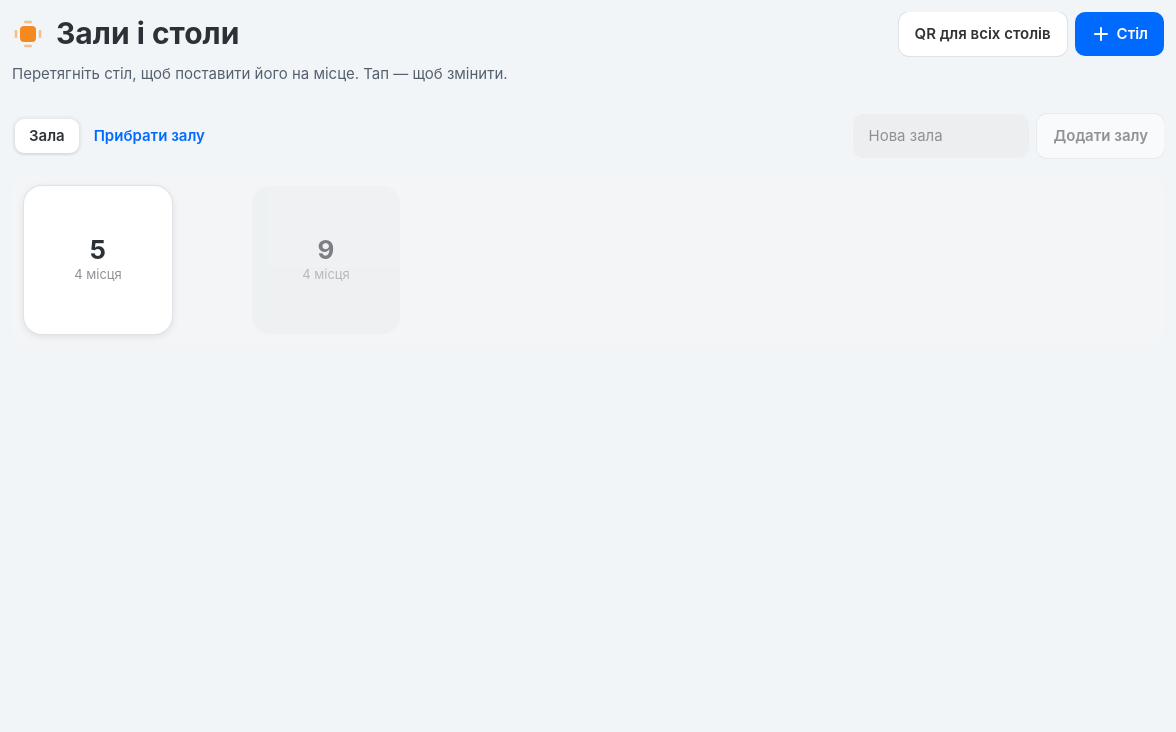
HallEditorPage › the QR of a table (guest menu, Q2) › offers no QR for a table that is not on the plan, nor for one not yet saved
Click the button "9 4 місця" at (326, 260), box top-left (252, 186), bottom-right (400, 334)
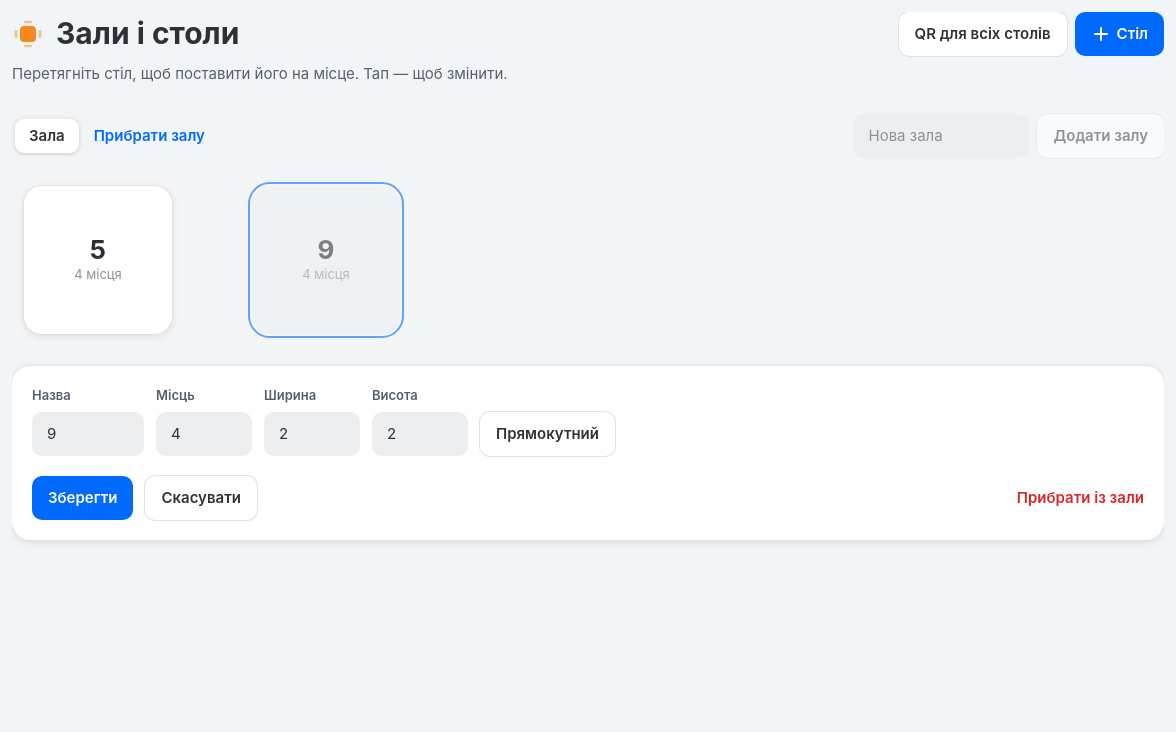
Click the button with test id "editor-table-add" at (1119, 34), box top-left (1075, 12), bottom-right (1164, 56)
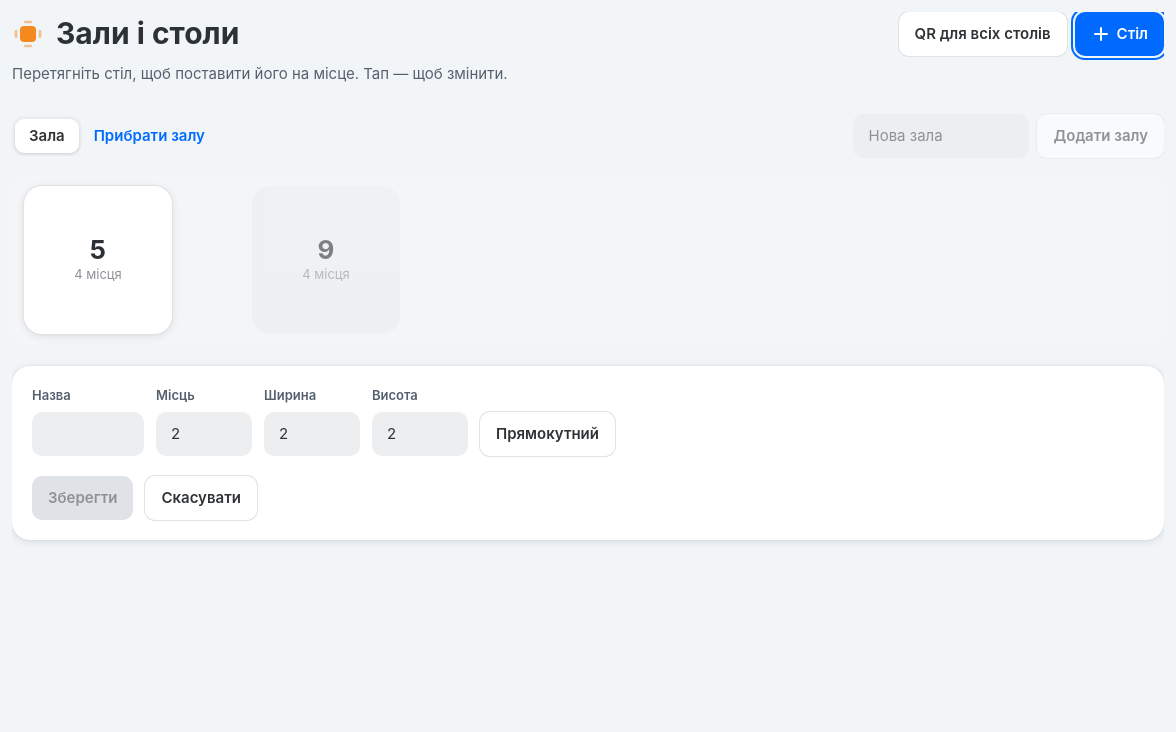
Click the button with test id "editor-table-11" at (98, 260), box top-left (24, 186), bottom-right (172, 334)
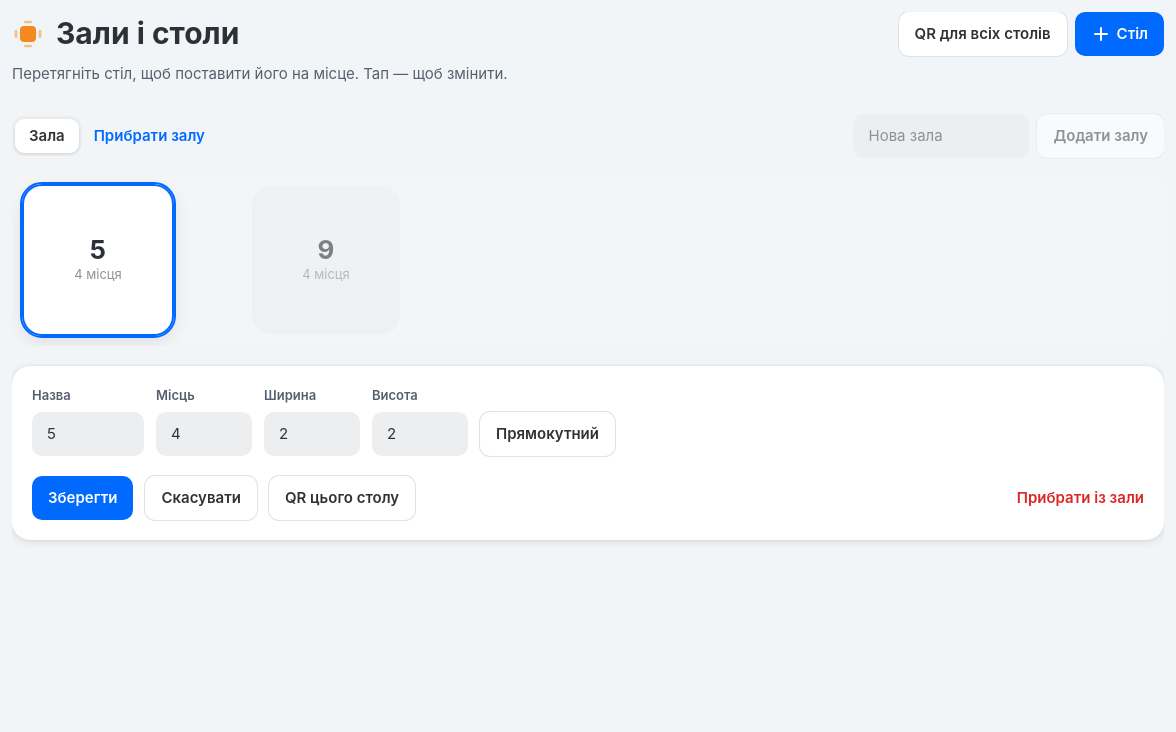
Expected: the link with test id "editor-form-qr" is shown, top-left (269, 476), bottom-right (415, 520)
